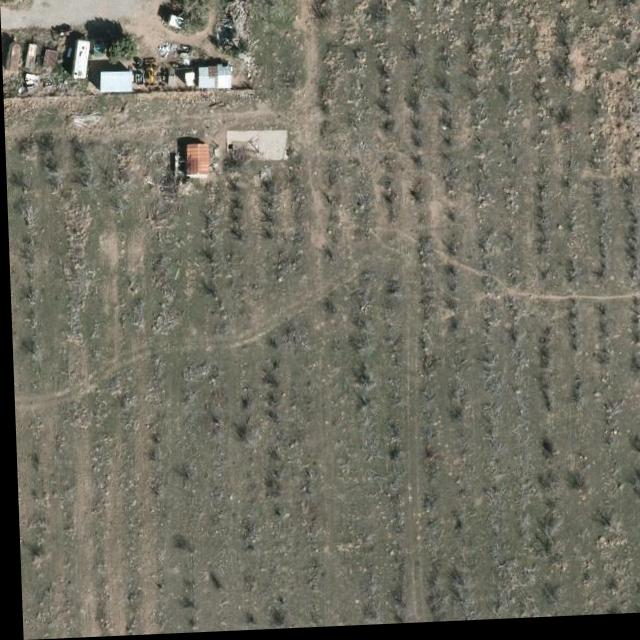vehicle: (92, 25, 105, 59)
